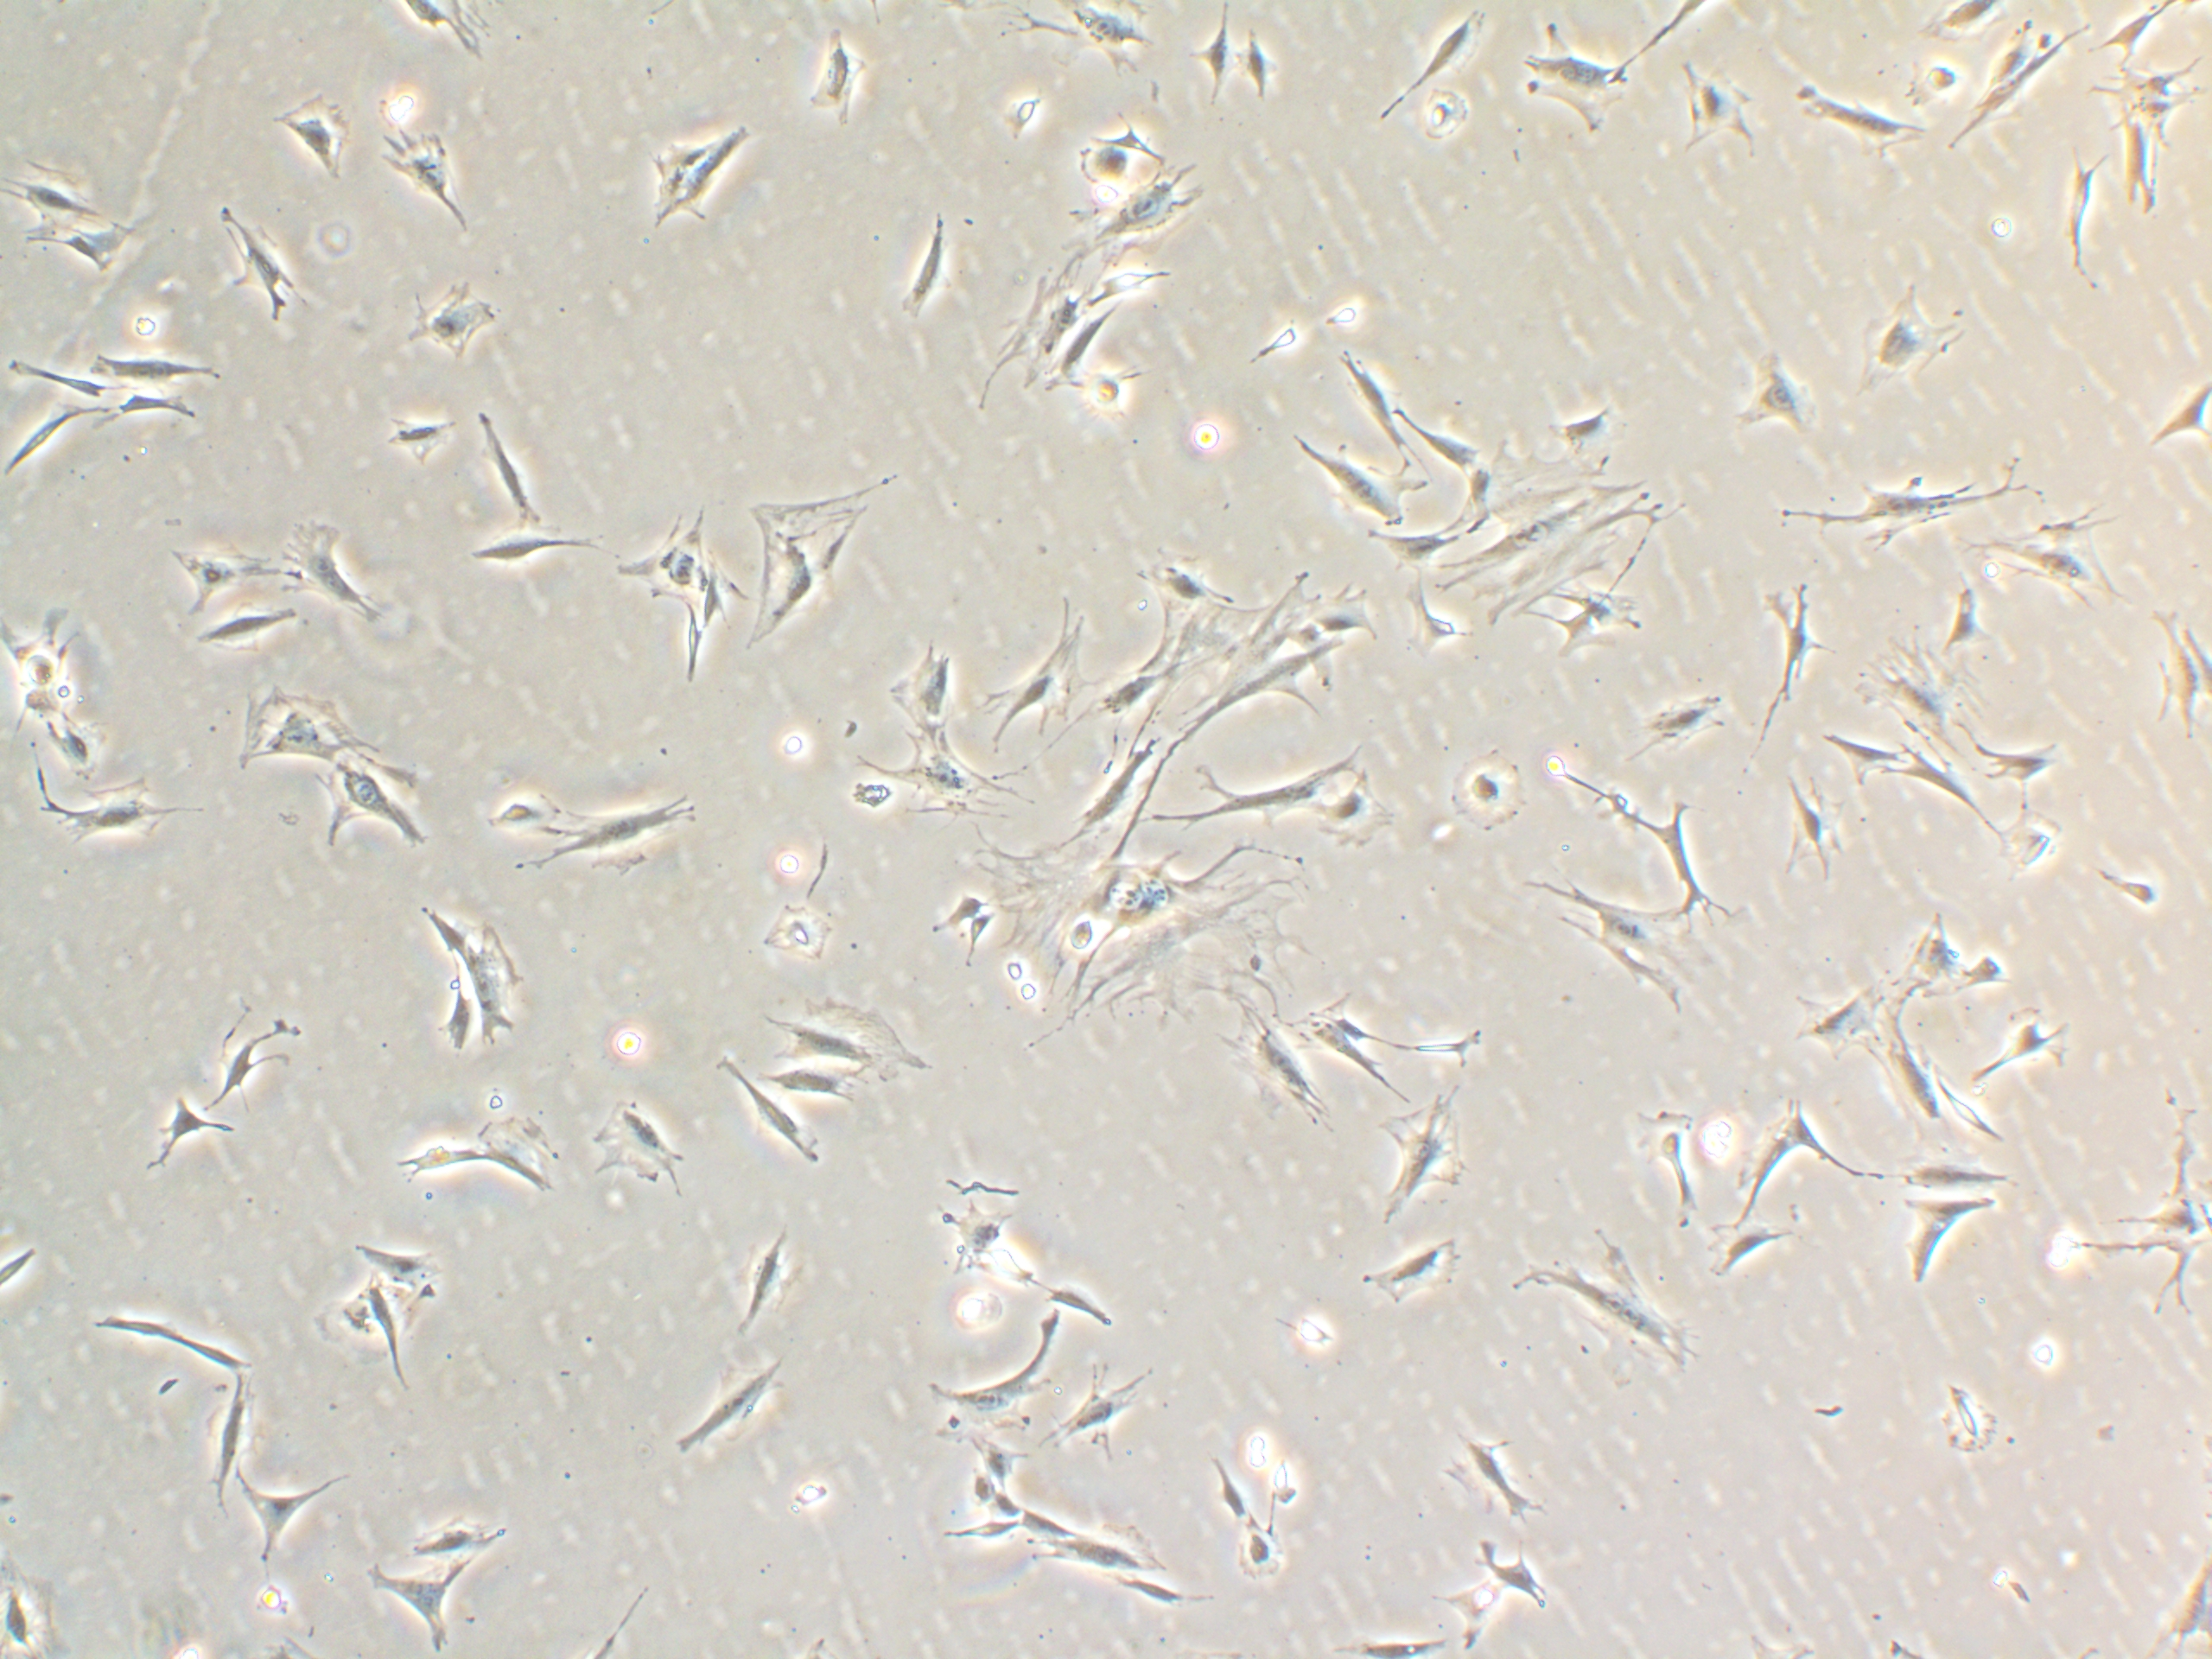polygonal: (1759, 450, 2062, 559), (1515, 1232, 1714, 1382), (963, 599, 1111, 762), (1123, 744, 1362, 842), (350, 1525, 521, 1659), (1940, 14, 2088, 166), (1205, 1000, 1355, 1140), (1435, 1408, 1588, 1544), (528, 779, 705, 896), (709, 1039, 829, 1197), (1848, 263, 1966, 423), (857, 723, 1028, 833), (232, 1462, 371, 1593), (1881, 1190, 2012, 1328), (658, 1354, 792, 1483), (1359, 2, 1494, 127), (24, 774, 183, 877), (1768, 66, 1930, 166), (1742, 565, 1822, 763), (639, 110, 758, 244), (575, 1093, 698, 1220), (1289, 429, 1433, 537), (2099, 51, 2186, 228), (1763, 760, 1872, 899), (914, 1333, 1061, 1438), (266, 509, 392, 629), (320, 746, 435, 877), (1303, 990, 1425, 1110), (1522, 10, 1623, 155), (211, 197, 314, 336), (1723, 335, 1834, 462), (1660, 47, 1768, 178), (373, 127, 489, 247), (1919, 1035, 2034, 1155), (1620, 1103, 1717, 1243), (796, 16, 883, 166), (1033, 1363, 1165, 1460), (1622, 673, 1770, 760), (0, 394, 115, 505), (387, 268, 509, 371), (115, 1091, 244, 1185), (1862, 1016, 1961, 1138), (1973, 990, 2090, 1093), (2059, 127, 2127, 300), (448, 519, 622, 586), (261, 77, 366, 186), (1320, 342, 1421, 455), (1629, 798, 1728, 913), (1888, 742, 2008, 836), (470, 1107, 578, 1209), (200, 999, 308, 1101), (462, 408, 554, 528), (1778, 1093, 1892, 1190), (728, 1218, 817, 1342), (164, 532, 300, 612), (1031, 1521, 1184, 1591), (867, 640, 970, 742), (0, 157, 138, 234), (1346, 1239, 1491, 1310), (462, 911, 529, 1061), (883, 207, 961, 336), (1897, 892, 1975, 1018), (751, 1053, 881, 1126), (345, 1274, 423, 1396), (1789, 976, 1893, 1066), (1879, 1152, 2045, 1208), (183, 594, 305, 667), (199, 1371, 260, 1518), (71, 336, 226, 392), (10, 225, 146, 286), (1392, 396, 1494, 476), (1700, 1204, 1791, 1290), (324, 1239, 451, 1297), (0, 343, 115, 404), (1479, 1544, 1559, 1629), (167, 1324, 273, 1384), (84, 383, 204, 436), (395, 1504, 503, 1561), (1968, 725, 2071, 782), (1038, 1279, 1129, 1344), (385, 410, 467, 477), (1550, 392, 1649, 448), (402, 899, 484, 964), (84, 1293, 181, 1347), (1106, 1577, 1212, 1626), (1235, 21, 1291, 113), (1197, 0, 1240, 115), (1200, 1453, 1264, 1530), (1742, 1117, 1785, 1216), (425, 979, 475, 1063), (928, 1520, 1033, 1560), (923, 877, 986, 943), (1012, 1509, 1090, 1542)
small-round: (1435, 739, 1533, 845), (751, 892, 843, 972), (1268, 1307, 1353, 1378), (1306, 267, 1378, 350), (1237, 310, 1312, 378), (1416, 85, 1486, 157), (779, 1467, 855, 1532), (359, 73, 428, 143), (1237, 1513, 1294, 1591), (995, 84, 1061, 150)
spread: (975, 833, 1298, 1037), (1139, 572, 1359, 760), (1442, 450, 1665, 622), (712, 477, 885, 680), (1531, 885, 1728, 1030), (956, 261, 1165, 392), (1343, 1073, 1484, 1241), (1965, 500, 2144, 627), (606, 519, 745, 681), (1843, 624, 1994, 765), (759, 985, 942, 1073), (1066, 159, 1223, 253), (219, 685, 369, 779)
